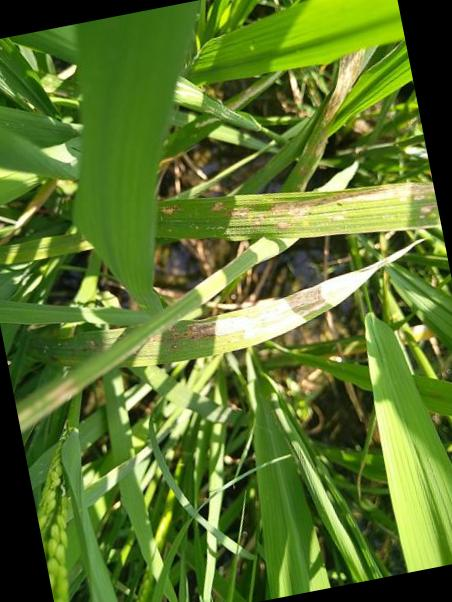Leaf Streak: (132, 254, 400, 366), (154, 180, 442, 241), (324, 45, 375, 120), (41, 322, 123, 364)
